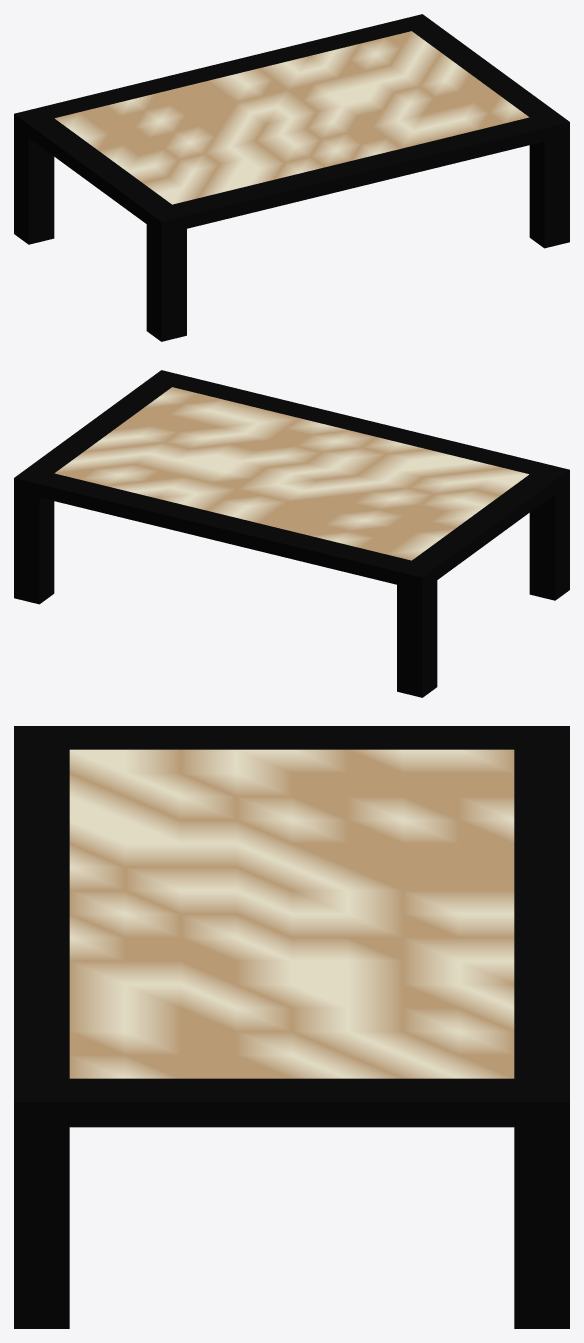
The model's file is Table.fbx.
3 views of the same model, one above another, from view 1: azimuth 30°, elevation 25°; view 2: azimuth 150°, elevation 25°; view 3: azimuth 270°, elevation 25° (orthographic). The views are drawn at different scales.
Parts seen in each view (by area): view 1: Table; view 2: Table; view 3: Table.
Part boxes in pixels (x1,y1,x2,y2): Table: (14,14,569,341); Table: (14,370,569,697); Table: (14,726,569,1328).
Size of what is drawn, in the model's own units: 800 by 225 by 500.
